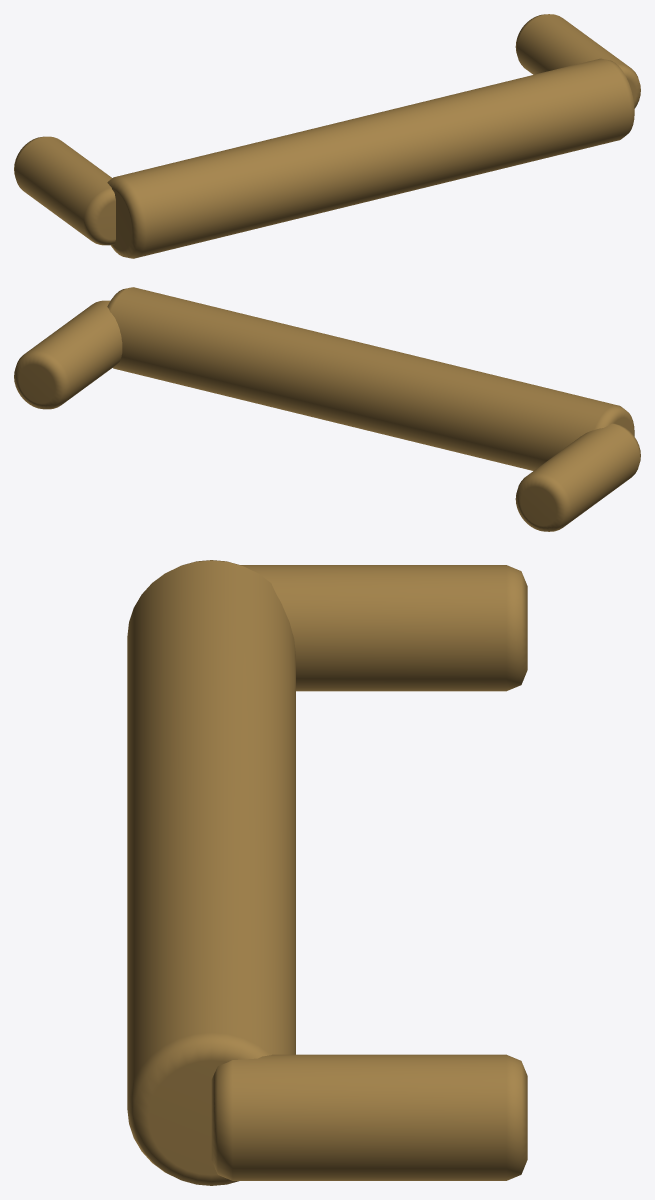
File: Pickup_TrayHandle.fbx
3 renders of one model, top to bottom at view 1: azimuth 30°, elevation 25°; view 2: azimuth 150°, elevation 25°; view 3: azimuth 270°, elevation 25°, orthographic. The views are drawn at different scales.
Visible parts, largest first — view 1: Handle grip.001, Handle peg.002, Handle peg.003; view 2: Handle grip.001, Handle peg.002, Handle peg.003; view 3: Handle grip.001, Handle peg.003, Handle peg.002.
Boxes of the visible parts, left/top/right/bottom form: Handle grip.001: left=107, top=58, right=634, bottom=258; Handle peg.002: left=14, top=136, right=115, bottom=245; Handle peg.003: left=515, top=14, right=640, bottom=108; Handle grip.001: left=107, top=287, right=634, bottom=470; Handle peg.002: left=515, top=423, right=640, bottom=531; Handle peg.003: left=14, top=300, right=122, bottom=409; Handle grip.001: left=127, top=560, right=295, bottom=1185; Handle peg.003: left=211, top=1054, right=527, bottom=1180; Handle peg.002: left=241, top=565, right=527, bottom=691.
Bounding box in the file's own units: 0.122 × 0.016 × 0.038.
